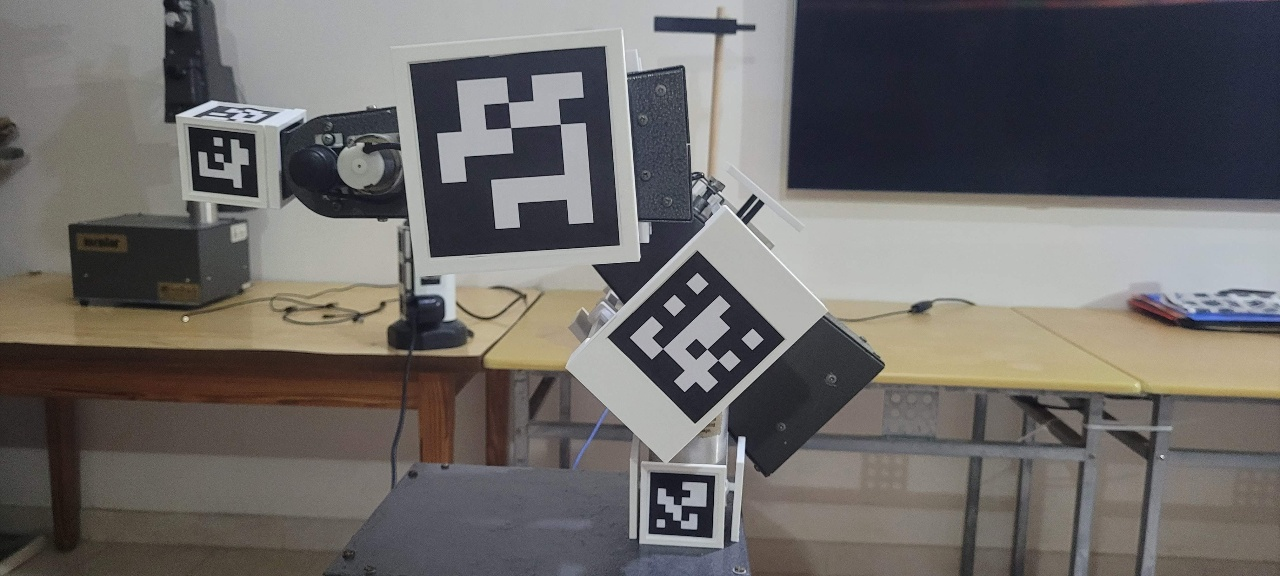Robot: (174, 26, 888, 552)
